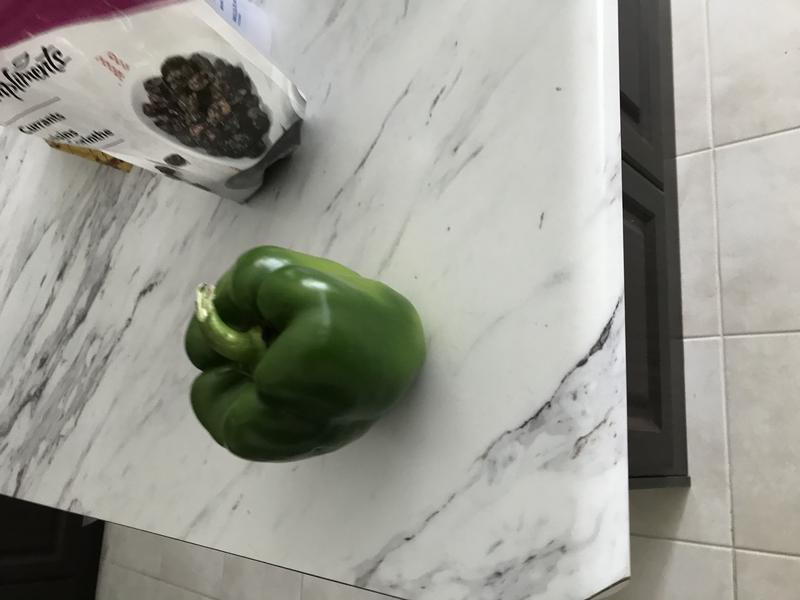green_pepper: (174, 238, 443, 472)
